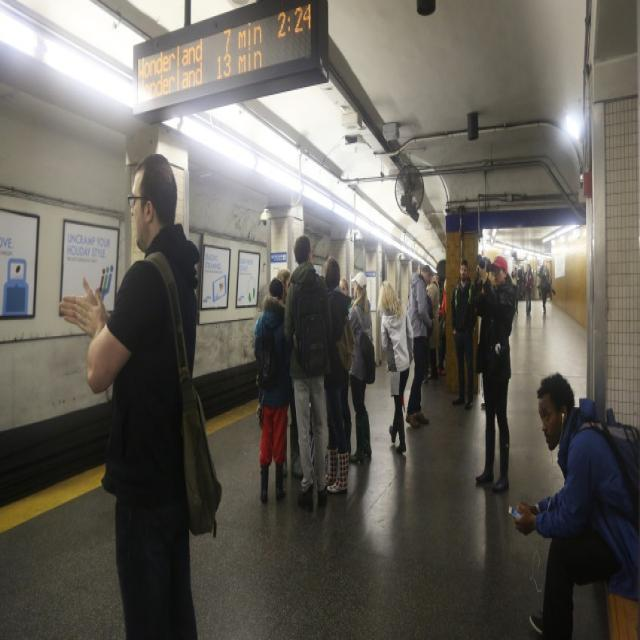body: (56, 150, 224, 639), (507, 368, 639, 639), (282, 232, 332, 499), (471, 249, 518, 495), (252, 276, 292, 507), (322, 254, 355, 496), (374, 277, 414, 457), (348, 272, 376, 467), (404, 261, 434, 430), (450, 257, 478, 411), (426, 266, 442, 383), (434, 257, 446, 376), (421, 278, 434, 384), (538, 257, 550, 315), (276, 265, 292, 304), (523, 261, 533, 316), (517, 265, 528, 300), (514, 266, 520, 316), (337, 276, 351, 297)
